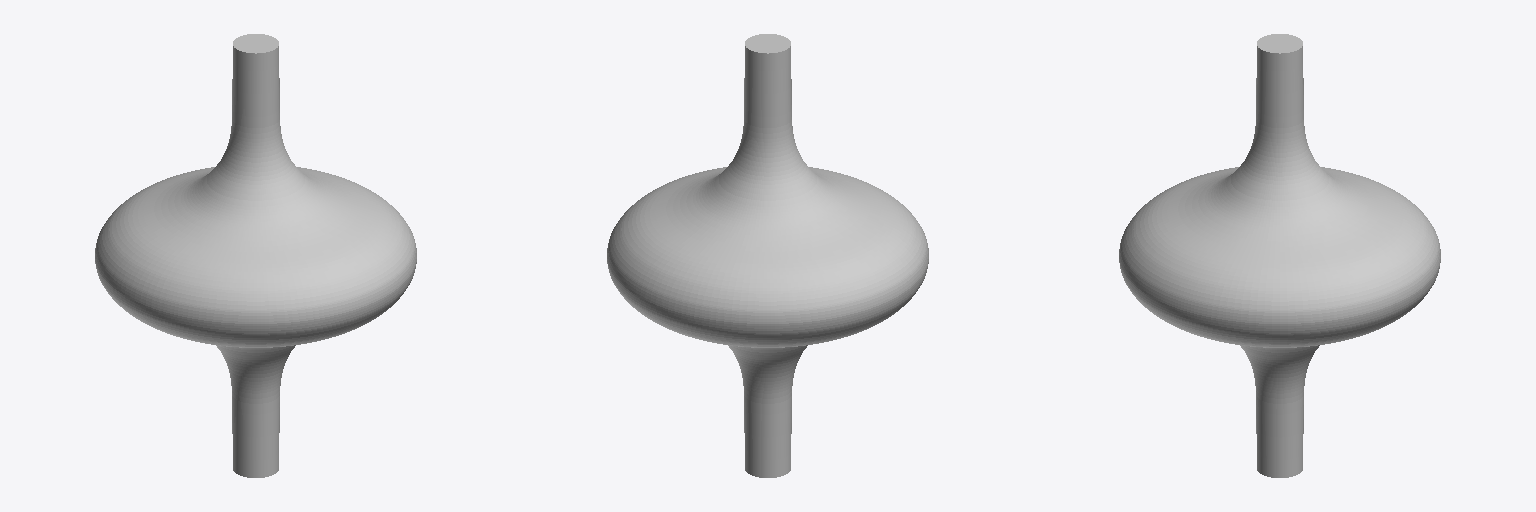
Rendered from 190708_Ether_100type_drop5.obj.
The picture shows the model from 3 angles: view 1: azimuth 30°, elevation 25°; view 2: azimuth 150°, elevation 25°; view 3: azimuth 270°, elevation 25°; orthographic projection.
Visible parts, largest first — view 1: object_1; view 2: object_1; view 3: object_1.
Boxes of the visible parts, x1,y1,x2,y2 form: object_1: [95, 34, 416, 477]; object_1: [607, 34, 928, 477]; object_1: [1119, 34, 1440, 477].
Bounding box in the file's own units: 68.76 × 100 × 68.76.